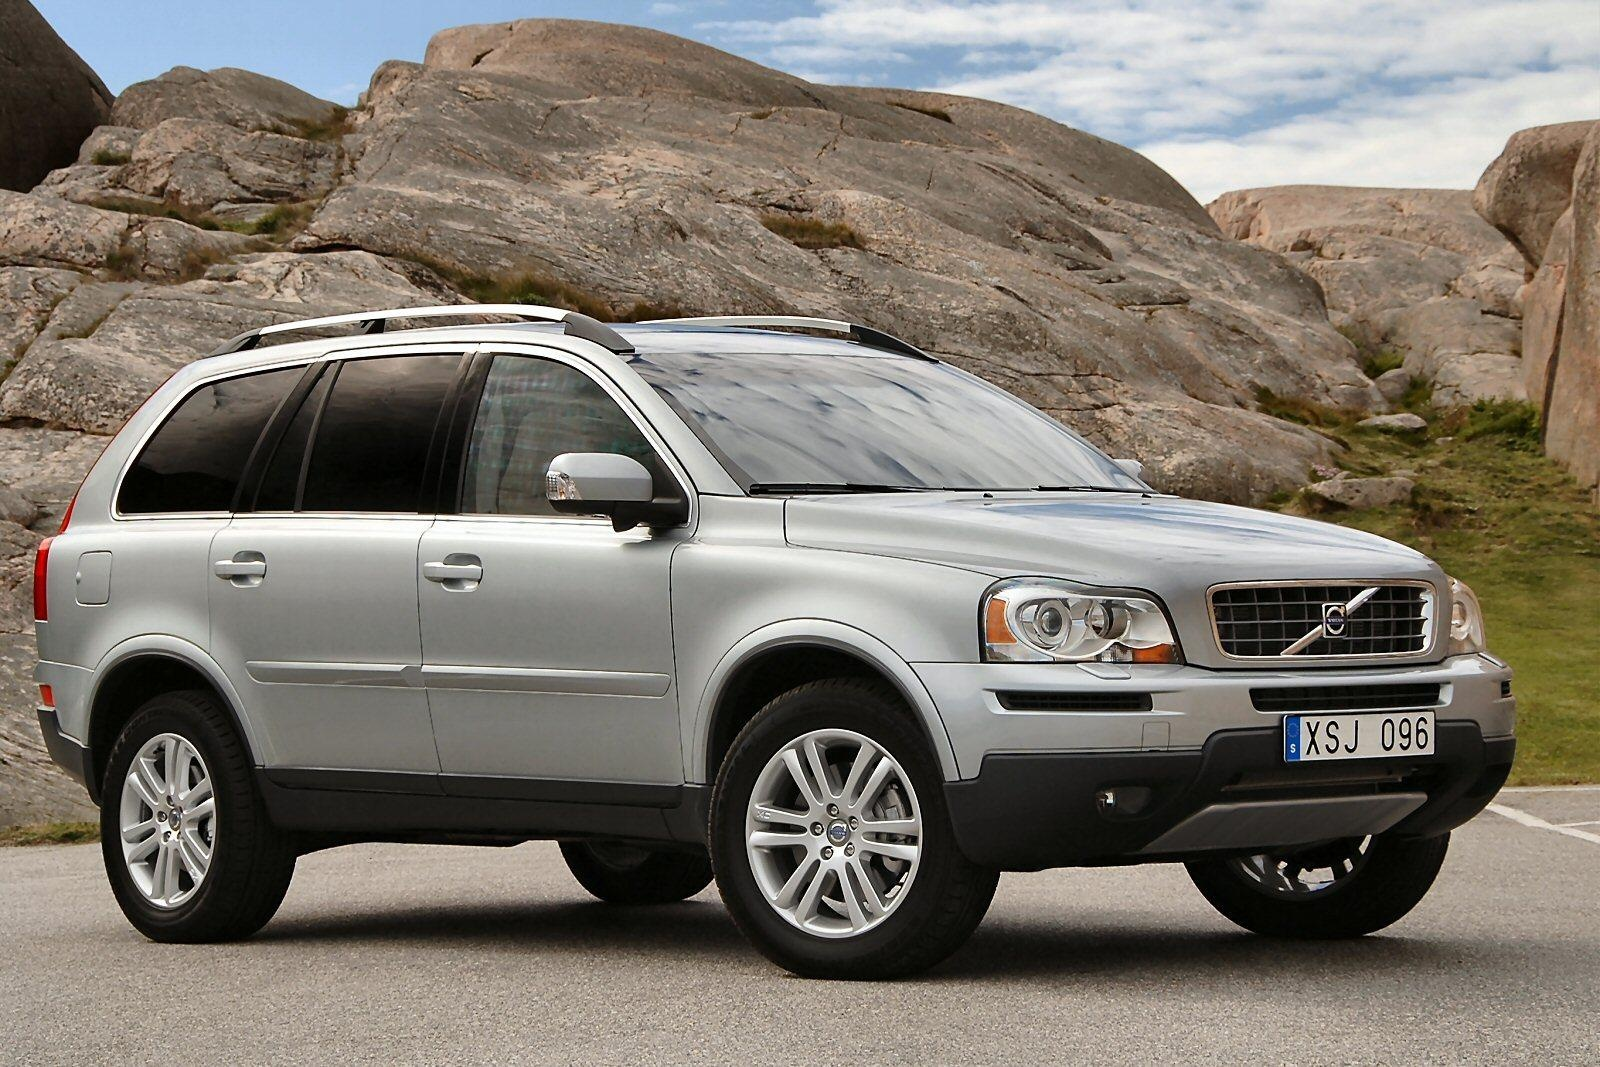car: (14, 191, 1595, 1000)
